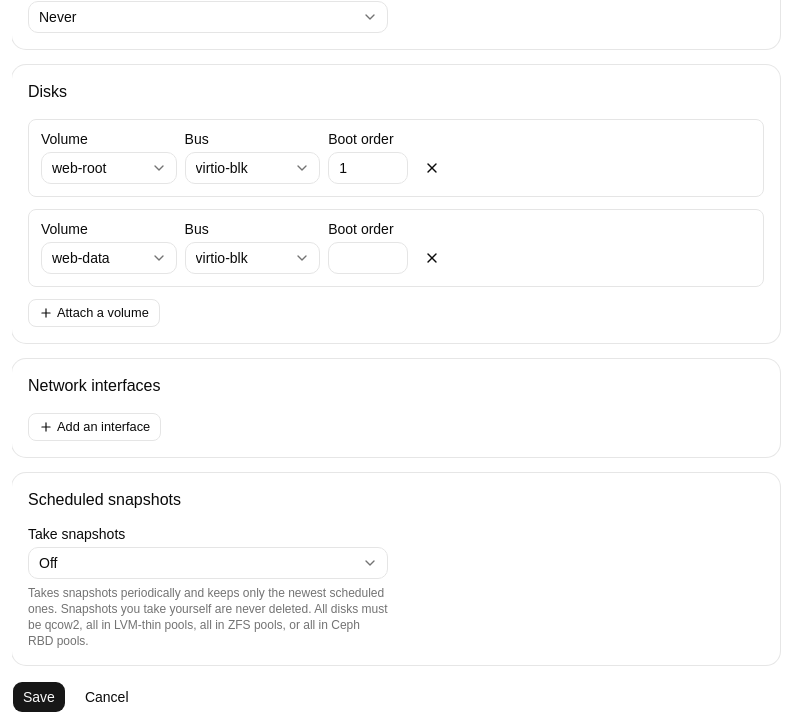
Scenario: explains the schedule and warns about raw disks
(page scrolled)
Expected: the text "scheduled snapshots will fail" is not shown
Select "Hourly" in the dropdown labelled "Take snapshots" at (208, 563), box [28,547,388,579]
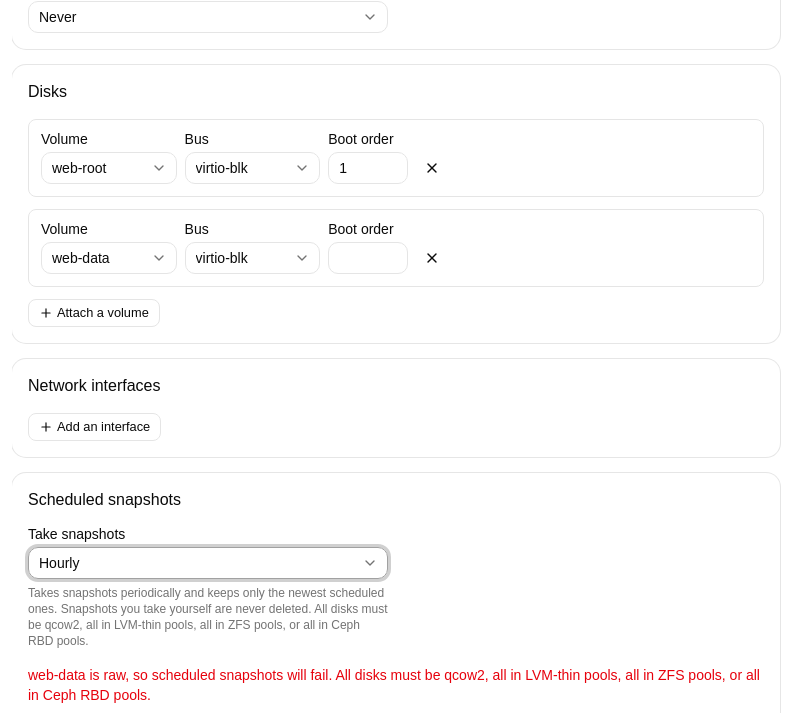
Now the text "web-data is raw, so scheduled snapshots will fail. All disks must be qcow2, all in LVM-thin pools, all in ZFS pools, or " is shown, box [28,667,760,703]
raw 디스크를 떼면 경고도 사라진다.
Click the button named "Remove disk 2" at (432, 258), box [416,242,448,274]
(page scrolled)
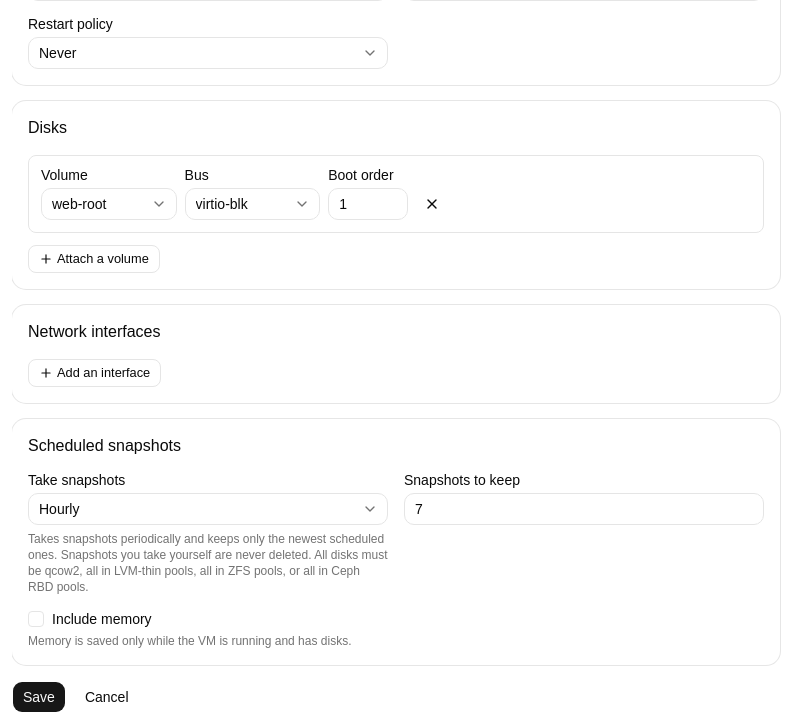
Now the text "scheduled snapshots will fail" is gone
